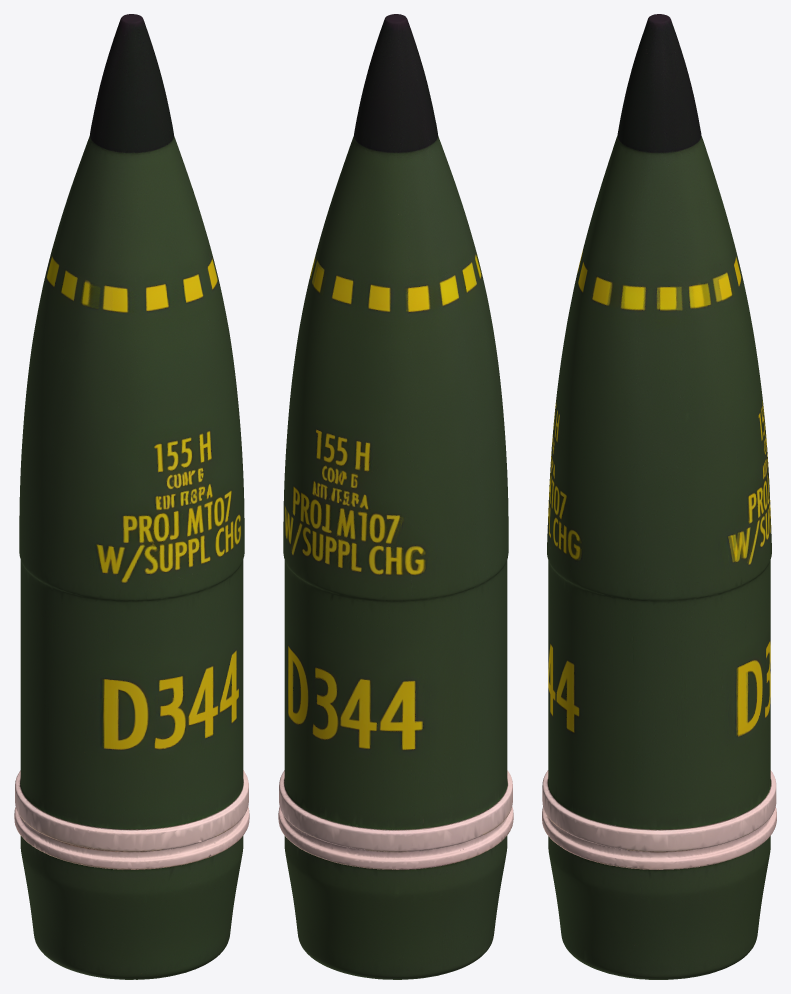
The model's file is testshell.glb.
The picture shows the model from 3 angles, left to right: view 1: azimuth 30°, elevation 25°; view 2: azimuth 150°, elevation 25°; view 3: azimuth 270°, elevation 25°; orthographic projection.
Bounding box in the file's own units: 0.4379 × 1.9 × 0.438.
Materials: 1 (1 with a texture image).
